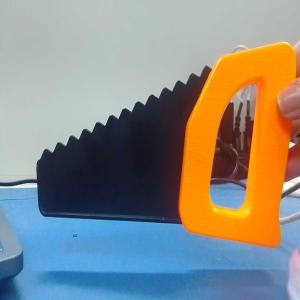serrote: (37, 42, 284, 248)
